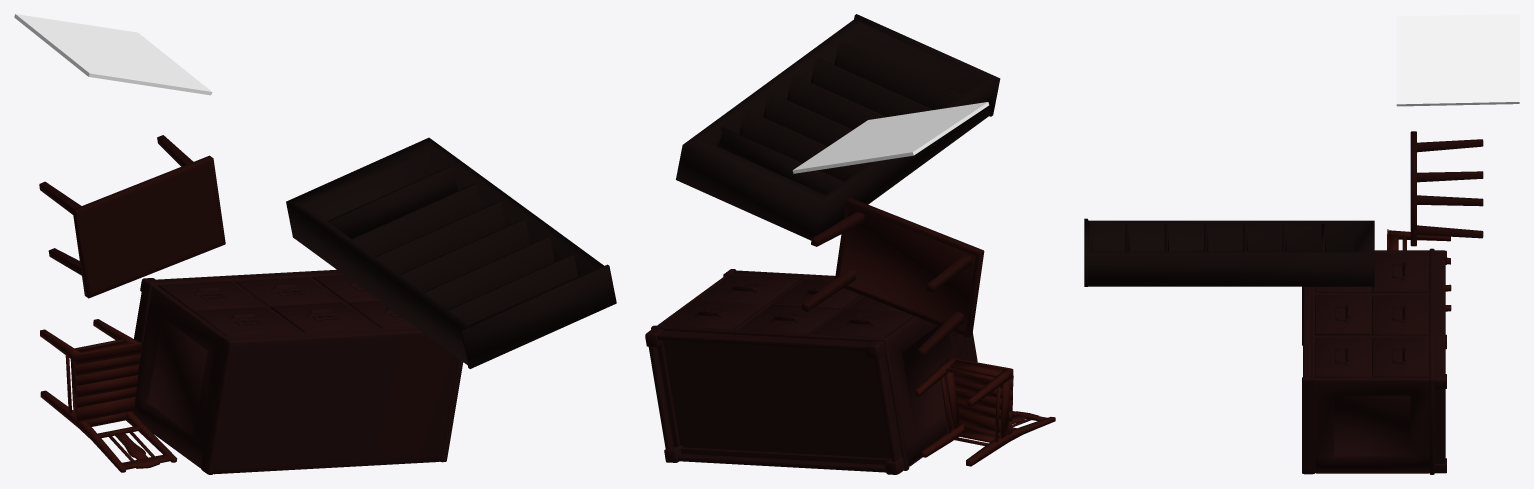
The picture shows the model from 3 angles, left to right: view 1: azimuth 30°, elevation 25°; view 2: azimuth 150°, elevation 25°; view 3: azimuth 270°, elevation 25°; orthographic projection. The views are drawn at different scales.
Parts seen in each view (by area): view 1: diffuse_cabinet_01, diffuse_shelf_03, diffuse_table_02, diffuse_chair_04, glass_table_01; view 2: diffuse_cabinet_01, diffuse_shelf_03, diffuse_table_02, diffuse_chair_04, glass_table_01; view 3: diffuse_cabinet_01, diffuse_shelf_03, glass_table_01, diffuse_table_02, diffuse_chair_04.
Boxes of the visible parts, x1,y1,x2,y2 form: diffuse_cabinet_01: (132,269,463,474); diffuse_shelf_03: (286,137,616,368); diffuse_table_02: (39,135,225,298); diffuse_chair_04: (40,319,177,472); glass_table_01: (14,14,212,95); diffuse_cabinet_01: (645,269,977,474); diffuse_shelf_03: (676,14,1000,240); diffuse_table_02: (801,197,984,357); diffuse_chair_04: (914,357,1055,466); glass_table_01: (792,102,988,173); diffuse_cabinet_01: (1302,248,1446,474); diffuse_shelf_03: (1084,218,1374,286); glass_table_01: (1396,14,1519,106); diffuse_table_02: (1410,131,1483,246); diffuse_chair_04: (1387,229,1451,311).
Bounding box in the file's own units: 216 × 247 × 284.
